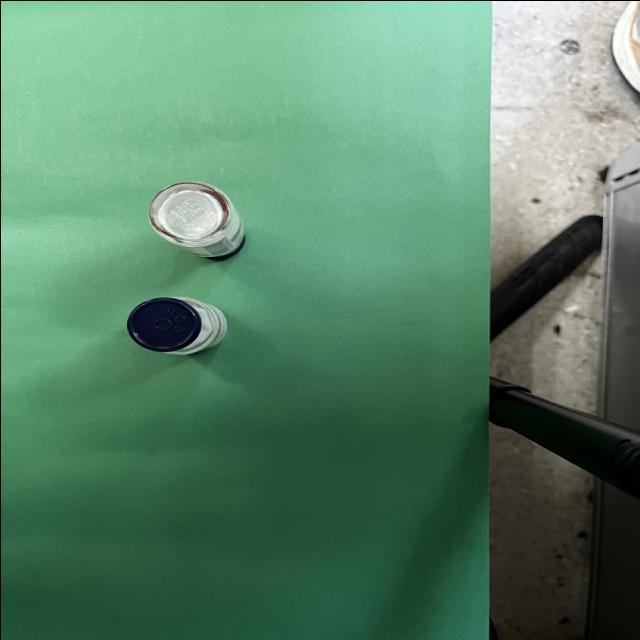Vials: (148, 181, 244, 260), (127, 296, 227, 354)
